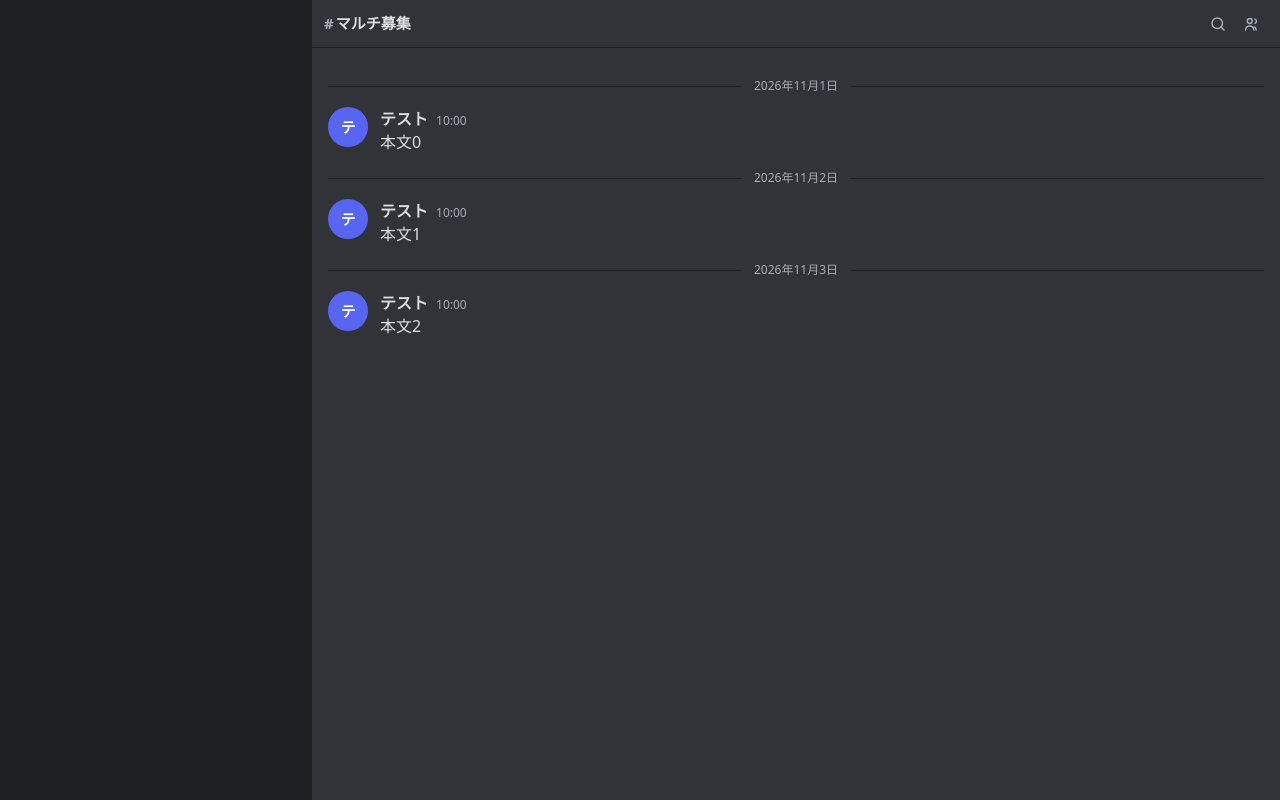
Test: 旧垢発見のストーリーフラグ連携（順序5） › メンバー一覧で denden のプロフィールを開くと s05-old-discord-user が立つ
What coordinates should you click on to do the following:
click the button named "メンバー"
I would click on:
 (1252, 24)
Its box is [1236, 8, 1268, 40].
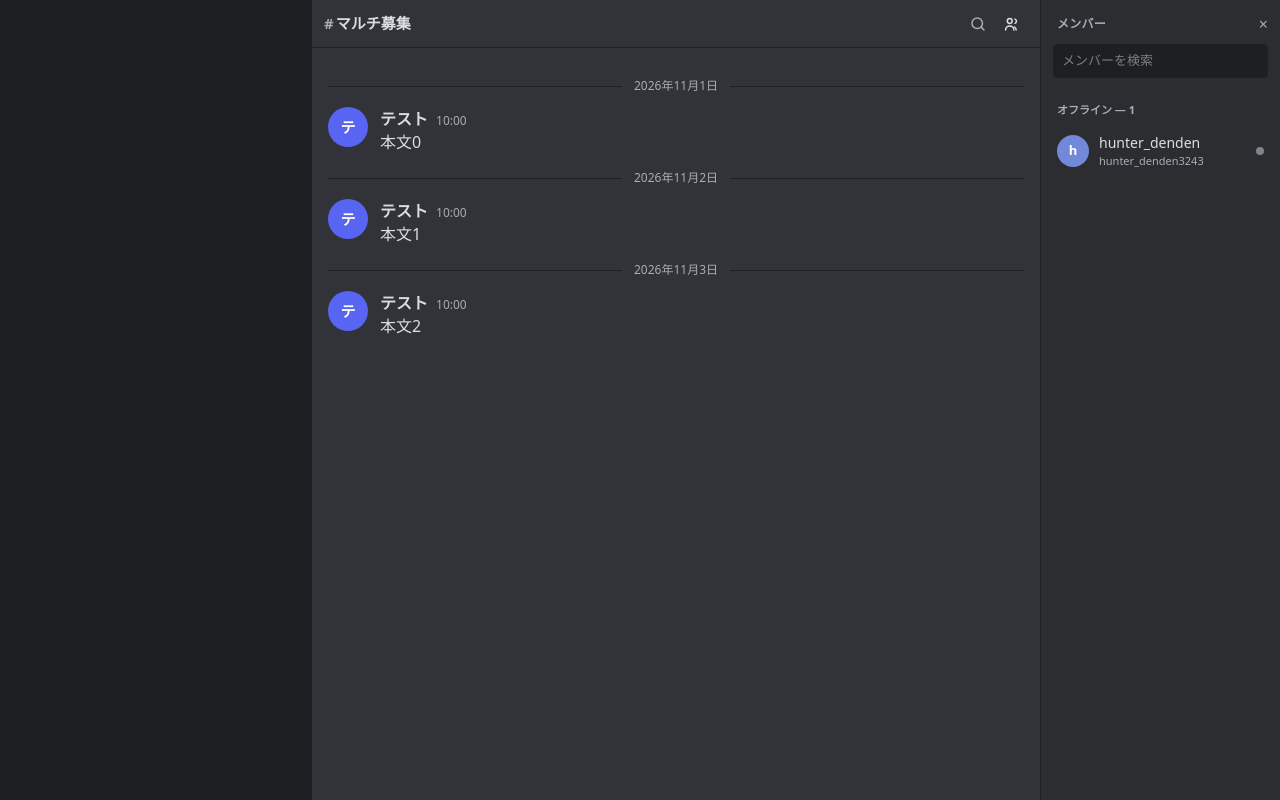
What coordinates should you click on to do the following:
click the button with class "members-row"
I would click on:
 (1160, 151)
Its box is [1049, 126, 1272, 176].
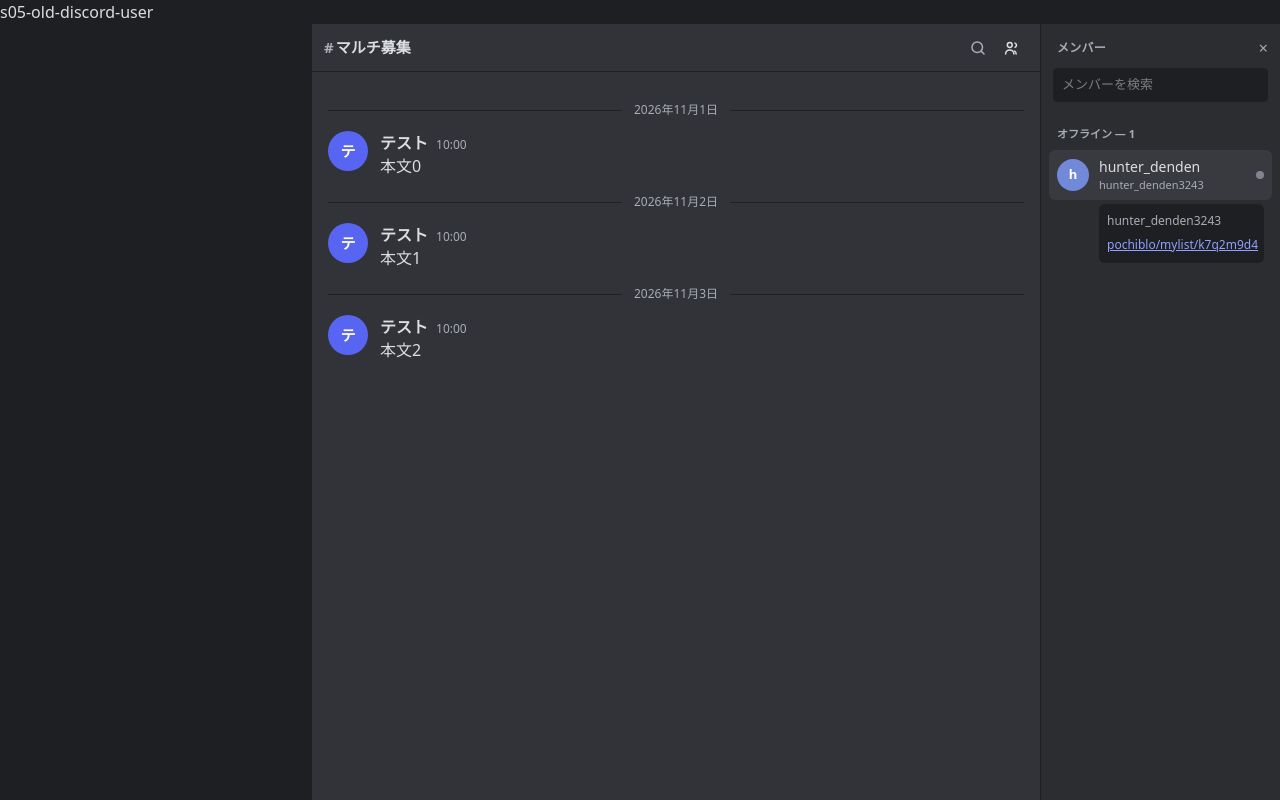
Result: the text with test id "story-flags" reads "s05-old-discord-user" at [0, 1, 153, 23]
